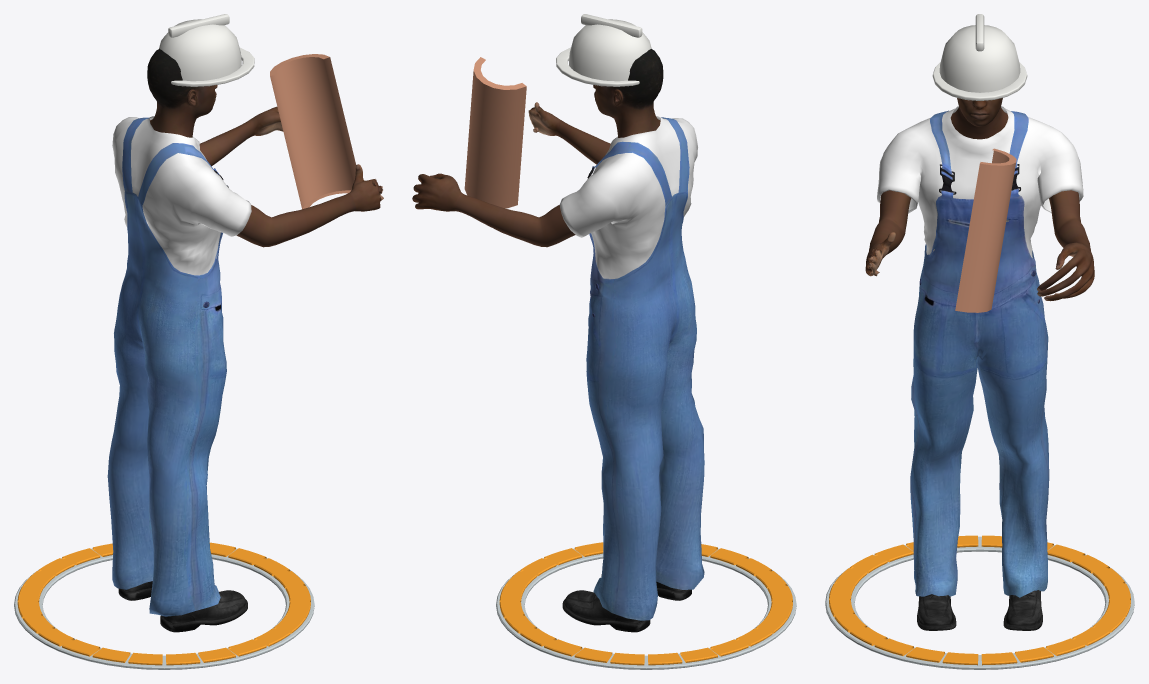
The model's file is MDO-OBR-008.glb.
3 renders of one model, left to right at view 1: azimuth 30°, elevation 25°; view 2: azimuth 150°, elevation 25°; view 3: azimuth 270°, elevation 25°, orthographic. The views are drawn at different scales.
Parts seen in each view (by area): view 1: MDO-OBR-008_pessoa_male_worksuit01, MDO-OBR-008_pessoa, MDO-OBR-008_ferD_telha, MDO-OBR-008_capacete, MDO-OBR-008_anel_fundo, MDO-OBR-008_pessoa_shoes04, MDO-OBR-008_capacete_aba, MDO-OBR-008_capacete_friso; view 2: MDO-OBR-008_pessoa_male_worksuit01, MDO-OBR-008_pessoa, MDO-OBR-008_ferD_telha, MDO-OBR-008_capacete, MDO-OBR-008_anel_fundo, MDO-OBR-008_pessoa_shoes04, MDO-OBR-008_capacete_aba, MDO-OBR-008_capacete_friso; view 3: MDO-OBR-008_pessoa_male_worksuit01, MDO-OBR-008_pessoa, MDO-OBR-008_ferD_telha, MDO-OBR-008_capacete, MDO-OBR-008_anel_fundo, MDO-OBR-008_pessoa_shoes04, MDO-OBR-008_capacete_aba.
Part boxes in pixels (x1,y1,x2,y2): MDO-OBR-008_pessoa_male_worksuit01: (107,116,251,616); MDO-OBR-008_pessoa: (147,48,383,247); MDO-OBR-008_ferD_telha: (270,54,355,209); MDO-OBR-008_capacete: (159,19,241,81); MDO-OBR-008_anel_fundo: (14,548,314,669); MDO-OBR-008_pessoa_shoes04: (118,581,247,632); MDO-OBR-008_capacete_aba: (171,47,254,86); MDO-OBR-008_capacete_friso: (168,14,229,37); MDO-OBR-008_pessoa_male_worksuit01: (559,116,704,620); MDO-OBR-008_pessoa: (412,49,663,247); MDO-OBR-008_ferD_telha: (464,57,526,208); MDO-OBR-008_capacete: (569,19,651,81); MDO-OBR-008_anel_fundo: (496,548,796,669); MDO-OBR-008_pessoa_shoes04: (562,574,691,632); MDO-OBR-008_capacete_aba: (556,47,639,86); MDO-OBR-008_capacete_friso: (581,14,642,37); MDO-OBR-008_pessoa_male_worksuit01: (877,106,1083,597); MDO-OBR-008_pessoa: (865,98,1094,301); MDO-OBR-008_ferD_telha: (955,148,1016,312); MDO-OBR-008_capacete: (939,25,1020,92); MDO-OBR-008_anel_fundo: (825,536,1134,669); MDO-OBR-008_pessoa_shoes04: (917,590,1042,630); MDO-OBR-008_capacete_aba: (932,62,1027,100).
Size of the model in its own units: 1.03 by 1.79 by 0.84.
9 materials, 5 textured.
